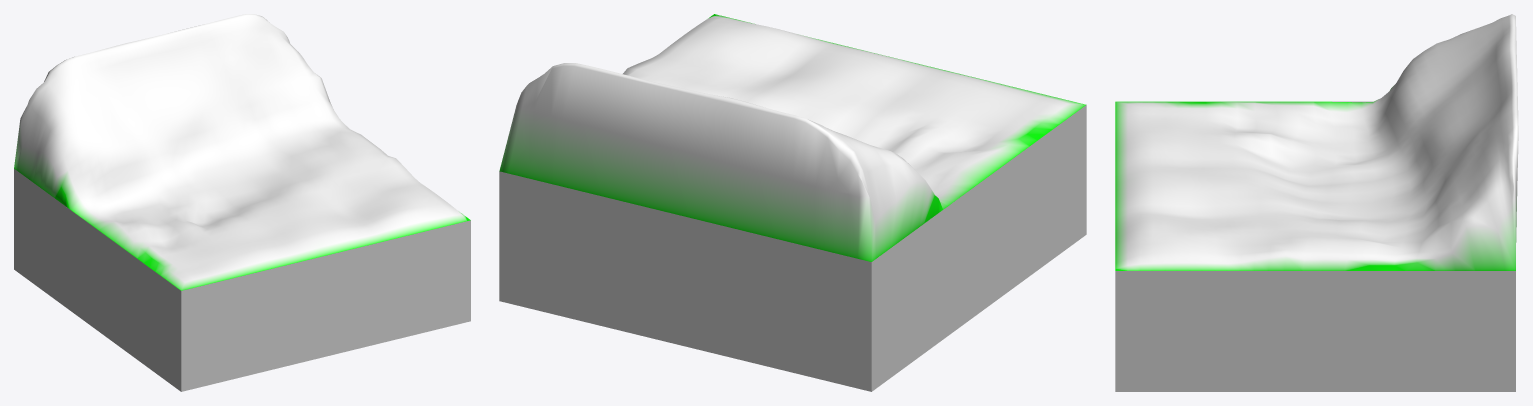
The model's file is Snowball_AdditiveMesh.fbx.
3 views of the same model, side by side, from view 1: azimuth 30°, elevation 25°; view 2: azimuth 150°, elevation 25°; view 3: azimuth 270°, elevation 25° (orthographic). The views are drawn at different scales.
Parts seen in each view (by area): view 1: Snowball_AdditiveMesh; view 2: Snowball_AdditiveMesh; view 3: Snowball_AdditiveMesh.
Part boxes in pixels (<box>): Snowball_AdditiveMesh: <box>14,14,470,391</box>; Snowball_AdditiveMesh: <box>499,14,1086,391</box>; Snowball_AdditiveMesh: <box>1115,14,1518,391</box>.
Size of the model in its own units: 6.03 by 3.96 by 6.04.
